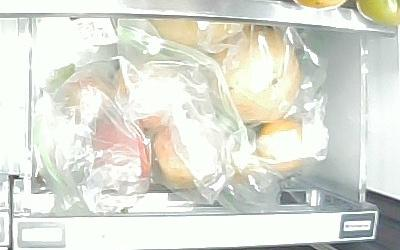pear_vinyl: (212, 23, 303, 127)
